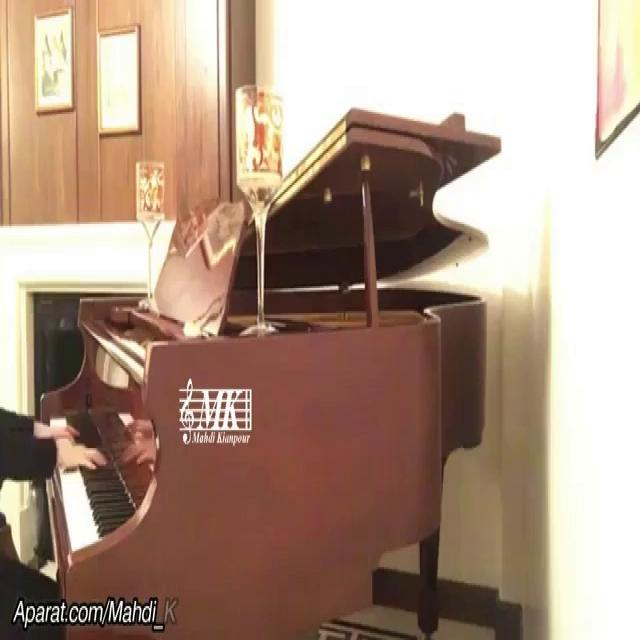Piano: (39, 399, 144, 574)
